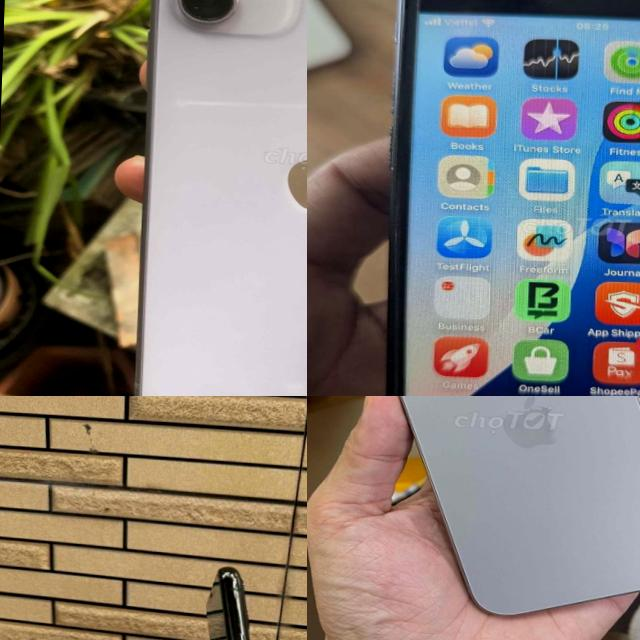gen_11: (112, 0, 307, 396), (205, 566, 251, 640)
gen_15: (330, 396, 640, 636)
gen_7_8: (375, 0, 640, 396)
